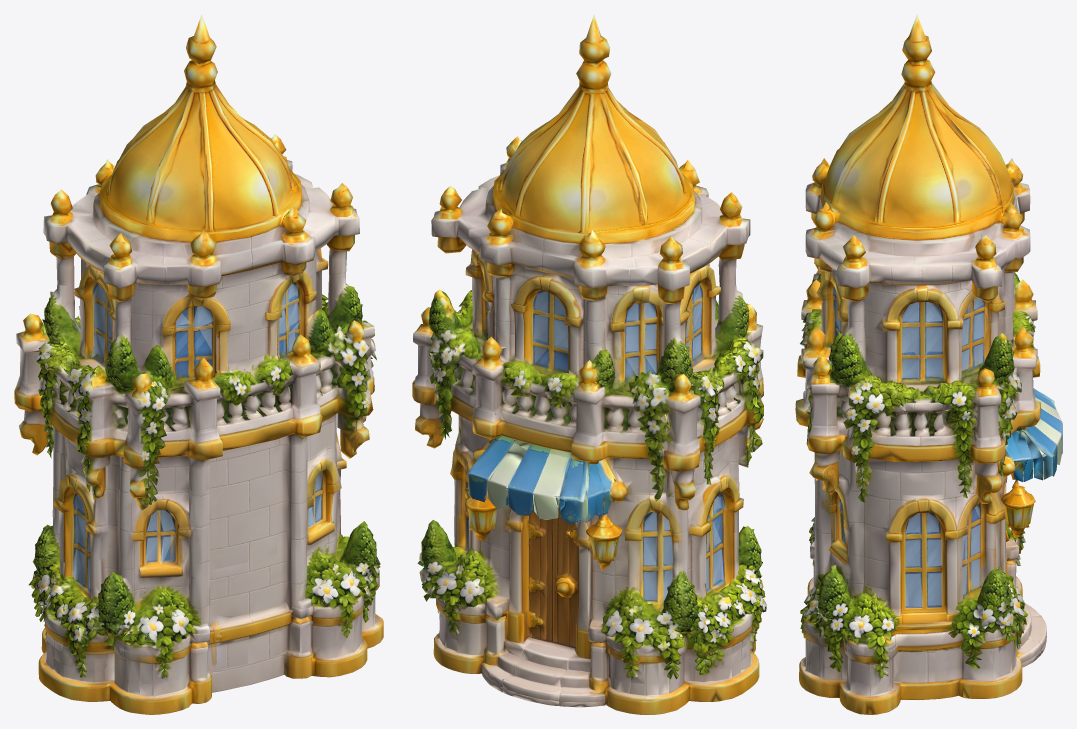
The model's file is HaloDomeHouse_10_parts.glb.
The picture shows the model from 3 angles, left to right: view 1: azimuth 30°, elevation 25°; view 2: azimuth 150°, elevation 25°; view 3: azimuth 270°, elevation 25°; orthographic projection.
Visible parts, largest first — view 1: HaloDomeHouse_10_Body_t01, HaloDomeHouse_10_Body_t11, HaloDomeHouse_10_Body_t00, HaloDomeHouse_10_Body_t10, HaloDomeHouse_10_WinPane, HaloDomeHouse_10_Glass; view 2: HaloDomeHouse_10_Body_t11, HaloDomeHouse_10_Body_t10, HaloDomeHouse_10_Body_t00, HaloDomeHouse_10_Body_t01, HaloDomeHouse_10_Awning, HaloDomeHouse_10_Door, HaloDomeHouse_10_Glass, HaloDomeHouse_10_WinPane, HaloDomeHouse_10_DoorHw; view 3: HaloDomeHouse_10_Body_t11, HaloDomeHouse_10_Body_t01, HaloDomeHouse_10_Body_t00, HaloDomeHouse_10_Body_t10, HaloDomeHouse_10_Glass, HaloDomeHouse_10_WinPane, HaloDomeHouse_10_Awning.
Part boxes in pixels (x1=…): HaloDomeHouse_10_Body_t01: x1=19, y1=120, x2=379, y2=703; HaloDomeHouse_10_Body_t11: x1=16, y1=36, x2=383, y2=681; HaloDomeHouse_10_Body_t00: x1=14, y1=14, x2=380, y2=712; HaloDomeHouse_10_Body_t10: x1=16, y1=156, x2=382, y2=714; HaloDomeHouse_10_WinPane: x1=72, y1=283, x2=322, y2=587; HaloDomeHouse_10_Glass: x1=72, y1=283, x2=322, y2=588; HaloDomeHouse_10_Body_t11: x1=412, y1=14, x2=763, y2=714; HaloDomeHouse_10_Body_t10: x1=413, y1=136, x2=766, y2=697; HaloDomeHouse_10_Body_t00: x1=415, y1=16, x2=763, y2=707; HaloDomeHouse_10_Body_t01: x1=421, y1=121, x2=763, y2=714; HaloDomeHouse_10_Awning: x1=465, y1=389, x2=625, y2=523; HaloDomeHouse_10_Door: x1=527, y1=498, x2=590, y2=659; HaloDomeHouse_10_Glass: x1=466, y1=285, x2=726, y2=600; HaloDomeHouse_10_WinPane: x1=466, y1=285, x2=726, y2=599; HaloDomeHouse_10_DoorHw: x1=528, y1=501, x2=587, y2=658; HaloDomeHouse_10_Body_t11: x1=800, y1=15, x2=1046, y2=714; HaloDomeHouse_10_Body_t01: x1=797, y1=137, x2=1041, y2=700; HaloDomeHouse_10_Body_t00: x1=795, y1=15, x2=1040, y2=698; HaloDomeHouse_10_Body_t10: x1=800, y1=158, x2=1037, y2=714; HaloDomeHouse_10_Glass: x1=831, y1=286, x2=984, y2=606; HaloDomeHouse_10_WinPane: x1=831, y1=287, x2=984, y2=606; HaloDomeHouse_10_Awning: x1=1005, y1=344, x2=1062, y2=481.
Bounding box in the file's own units: 20.72 × 40.99 × 15.83.
Materials: 9 (8 with a texture image).
